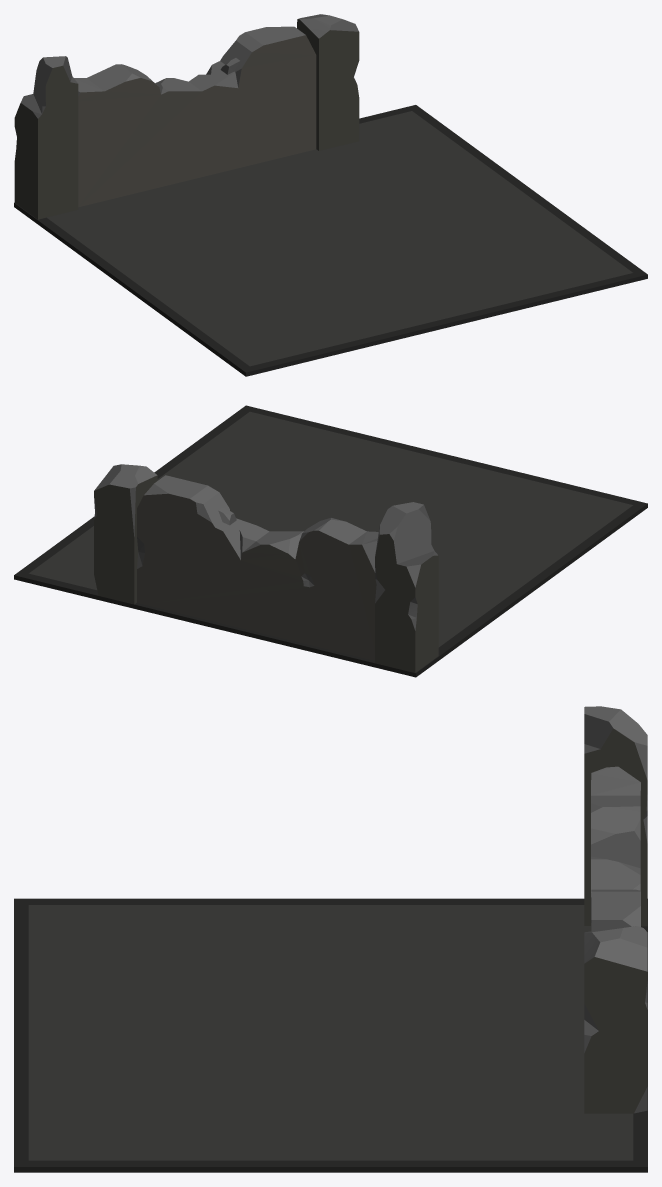
File: 20C_BrokenHouse_03.fbx
The picture shows the model from 3 angles, top to bottom: view 1: azimuth 30°, elevation 25°; view 2: azimuth 150°, elevation 25°; view 3: azimuth 270°, elevation 25°; orthographic projection. The views are drawn at different scales.
Parts seen in each view (by area): view 1: 20C_BrokenHouse_03; view 2: 20C_BrokenHouse_03; view 3: 20C_BrokenHouse_03.
Part boxes in pixels (x1,y1,x2,y2): 20C_BrokenHouse_03: [14, 14, 647, 376]; 20C_BrokenHouse_03: [14, 405, 647, 677]; 20C_BrokenHouse_03: [14, 706, 647, 1172].
Bounding box in the file's own units: 100 × 36.17 × 99.94.
